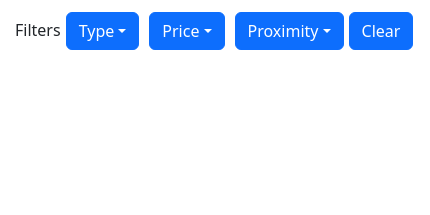
Test: Successfully renders filters component › Renders correct options for type drop down
Click the button "Type" at [102, 31], box [66,12,139,50]
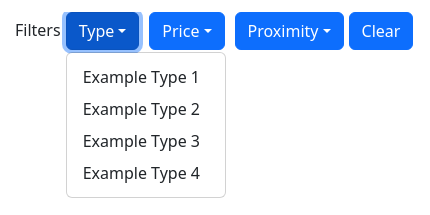
Check: the button "example type 1" is shown, box [83,66,200,88]
Check: the button "example type 2" is shown, box [83,98,200,120]
Check: the button "example type 3" is shown, box [83,130,200,152]
